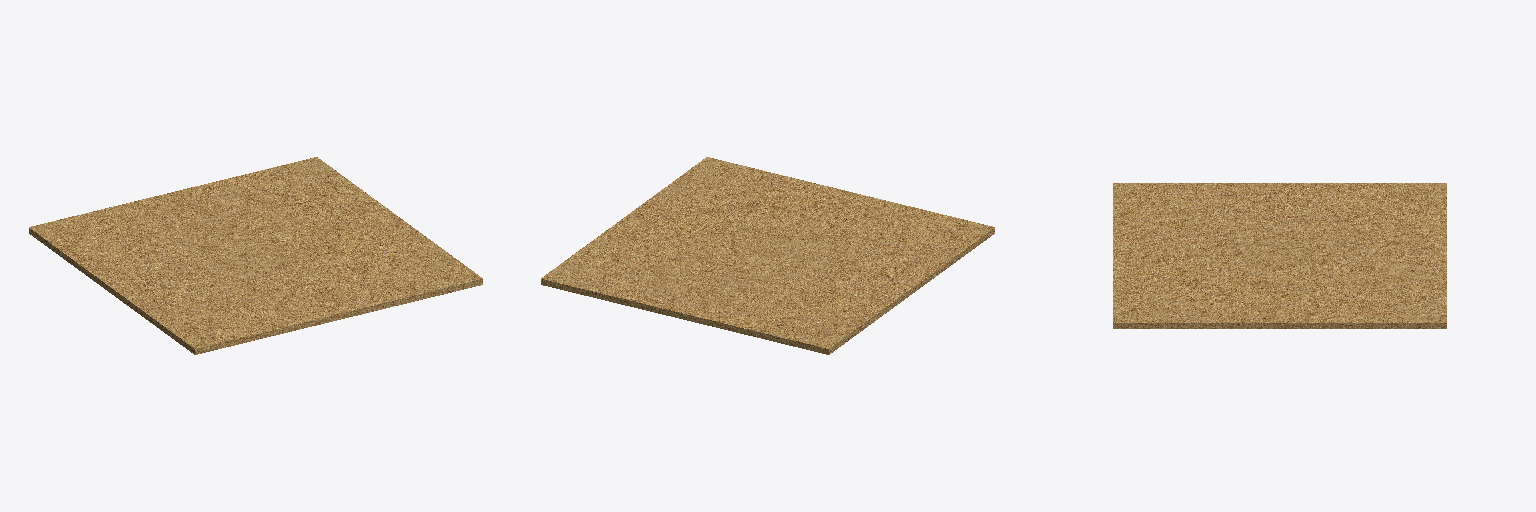
3 renders of one model, left to right at view 1: azimuth 30°, elevation 25°; view 2: azimuth 150°, elevation 25°; view 3: azimuth 270°, elevation 25°, orthographic.
Visible parts, largest first — view 1: 立方体; view 2: 立方体; view 3: 立方体.
Boxes of the visible parts, x1=… form: 立方体: x1=29, y1=157, x2=482, y2=354; 立方体: x1=541, y1=157, x2=994, y2=354; 立方体: x1=1113, y1=183, x2=1446, y2=328.
Size of the model in its own units: 100 by 2 by 100.
Materials: 1 (1 with a texture image).